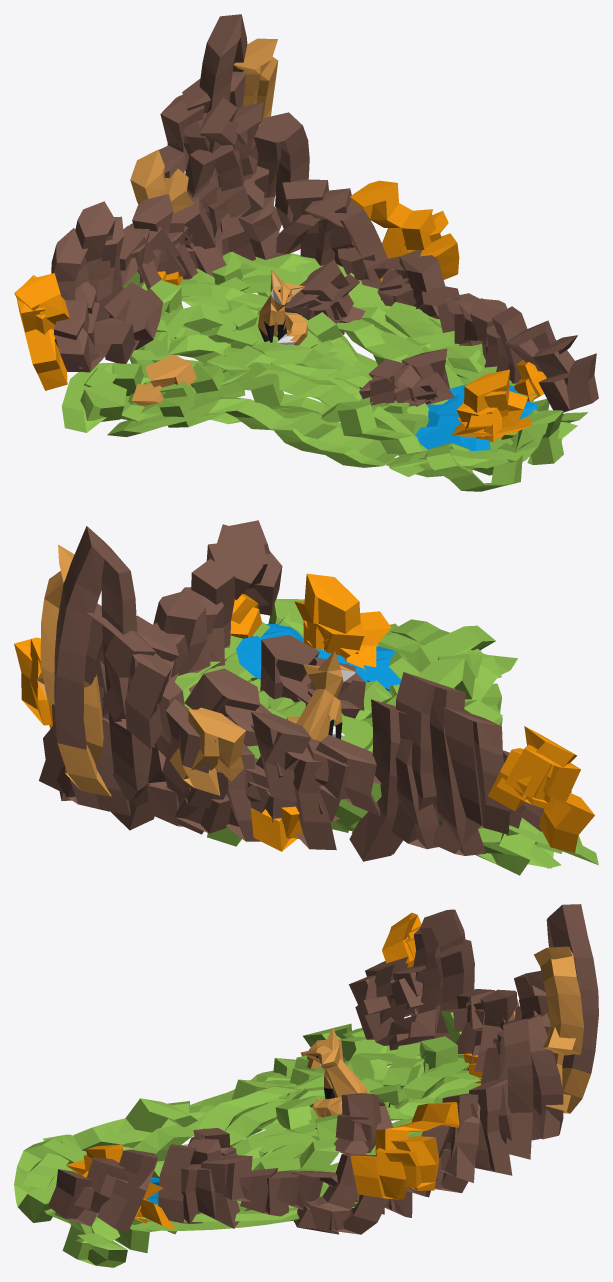
File: rocks.obj
3 views of the same model, one above another, from view 1: azimuth 30°, elevation 25°; view 2: azimuth 150°, elevation 25°; view 3: azimuth 270°, elevation 25° (orthographic). The views are drawn at different scales.
Visible parts, largest first — view 1: group909281911, group246618851, group1191012364, group948171238, group86291337, group1358533783, group1137317597, group589015348, group951461644, group313269320, group514488222, group43411290 (+25 smaller); view 2: group246618851, group1191012364, group86291337, group909281911, group514488222, group1853612101, group951461644, group1358533783, group841227219, group2038965068, group1603617490, group571802379 (+17 smaller); view 3: group909281911, group1191012364, group246618851, group1137317597, group951461644, group1358533783, group86291337, group948171238, group313269320, group447283234, group790819433, group841227219 (+18 smaller).
Boxes of the visible parts, x1,y1,x2,y2 form: group909281911: (238, 112, 527, 383); group246618851: (130, 14, 278, 225); group1191012364: (51, 201, 162, 372); group948171238: (179, 251, 489, 426); group86291337: (119, 194, 255, 290); group1358533783: (386, 410, 587, 491); group1137317597: (350, 180, 459, 281); group589015348: (107, 397, 387, 467); group951461644: (505, 320, 598, 412); group313269320: (120, 395, 421, 455); group514488222: (14, 273, 69, 390); group43411290: (125, 373, 472, 477); group246618851: (37, 526, 245, 801); group1191012364: (349, 672, 571, 861); group86291337: (111, 712, 381, 850); group909281911: (39, 558, 234, 815); group514488222: (488, 726, 594, 852); group1853612101: (294, 573, 370, 657); group951461644: (206, 520, 282, 615); group1358533783: (268, 599, 501, 678); group841227219: (184, 668, 271, 746); group2038965068: (476, 817, 598, 875); group1603617490: (260, 634, 319, 703); group571802379: (286, 651, 355, 741); group909281911: (158, 1014, 563, 1234); group1191012364: (349, 909, 474, 1070); group246618851: (500, 904, 598, 1113); group1137317597: (350, 1102, 459, 1199); group951461644: (48, 1149, 158, 1232); group1358533783: (14, 1136, 127, 1267); group86291337: (440, 989, 539, 1140); group948171238: (156, 1070, 480, 1234); group313269320: (73, 1058, 295, 1151); group447283234: (152, 1039, 423, 1177); group790819433: (349, 1036, 457, 1089); group841227219: (334, 1093, 393, 1154).
Size of the model in its own units: 1.01 by 0.6935 by 1.14.
